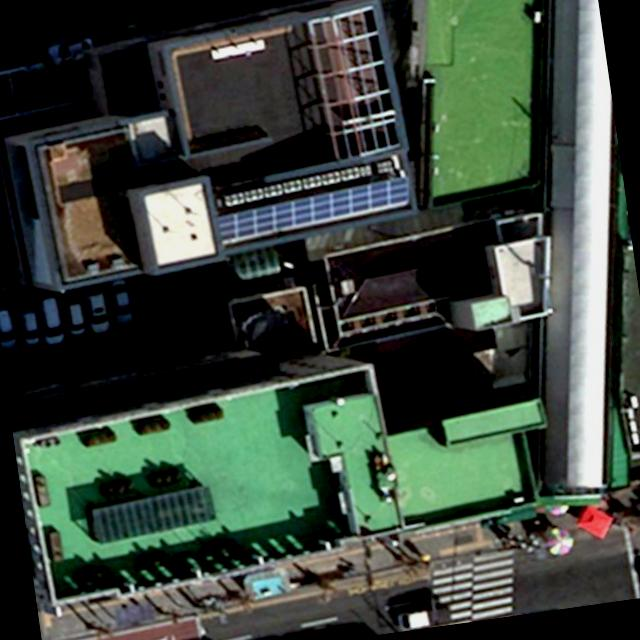solar: (210, 172, 420, 236)
